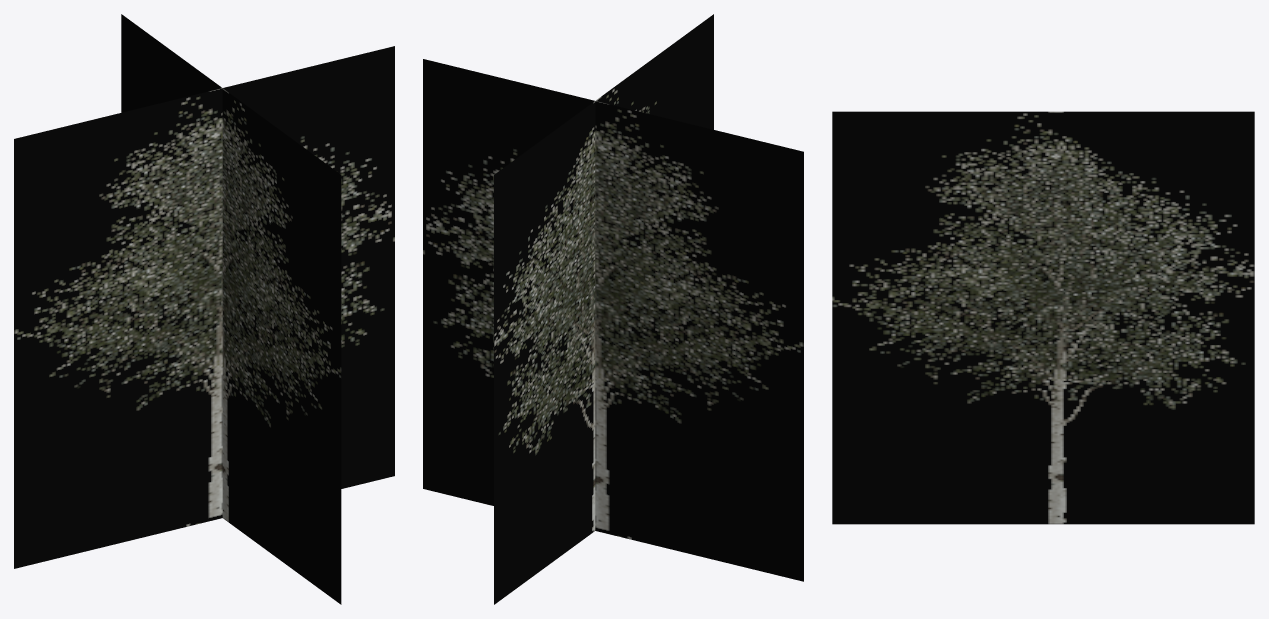
Rendered from Tree3.fbx.
3 renders of one model, left to right at view 1: azimuth 30°, elevation 25°; view 2: azimuth 150°, elevation 25°; view 3: azimuth 270°, elevation 25°, orthographic. The views are drawn at different scales.
Visible parts, largest first — view 1: Tree3; view 2: Tree3; view 3: Tree3.
Boxes of the visible parts, x1=… form: Tree3: x1=14, y1=14, x2=394, y2=604; Tree3: x1=423, y1=14, x2=803, y2=604; Tree3: x1=832, y1=111, x2=1254, y2=524.
Bounding box in the file's own units: 1814 × 1956 × 1814.
